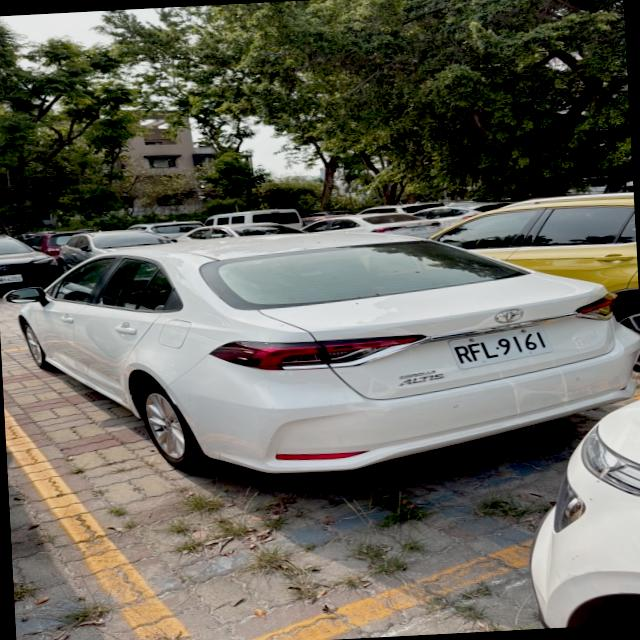license plate: (450, 327, 551, 369)
wheel: (141, 382, 208, 470)
